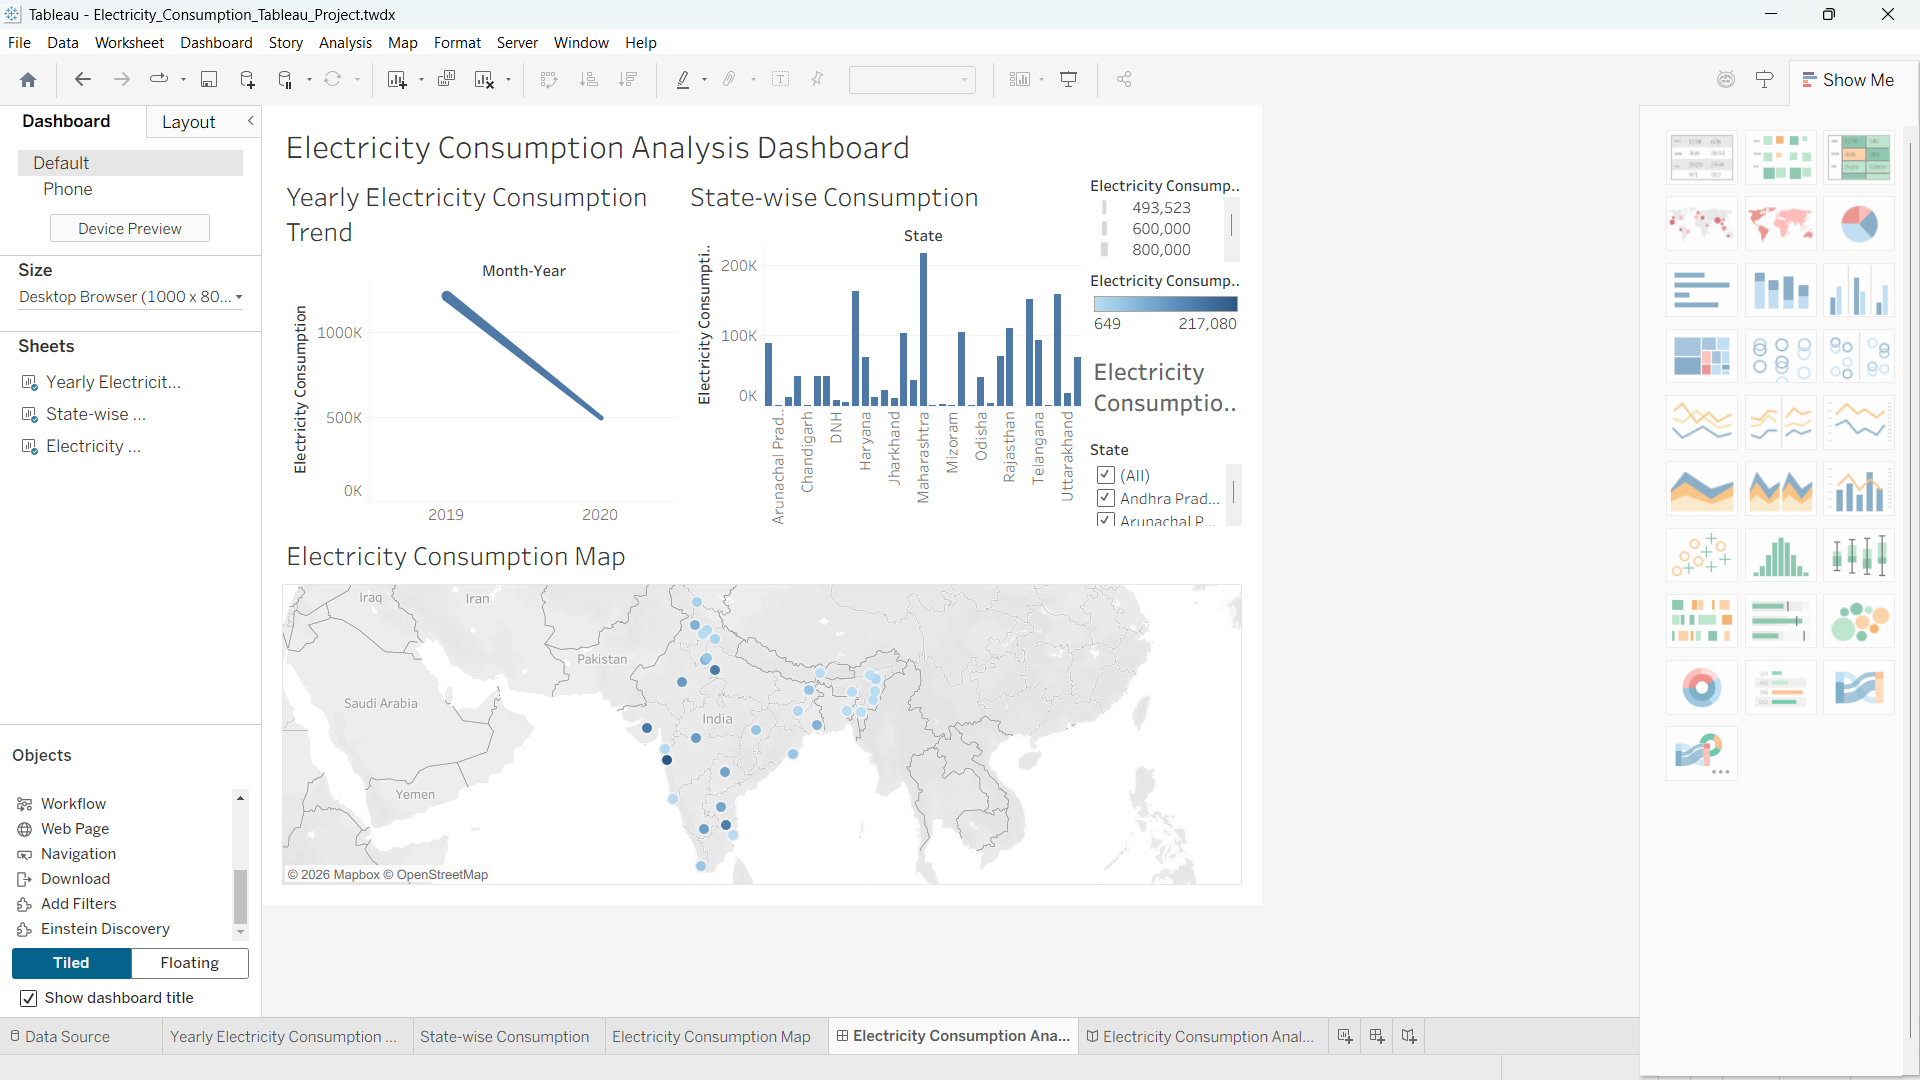

The dashboard page shown, as its layout file describes it:
{"tool":"tableau","page":{"name":"Electricity Consumption Analysis Dashboard","canvas":[1000,800],"ordinal":0},"visuals":[{"type":"worksheet","title":"Yearly Electricity Consumption Trend","mark":"Automatic","rows":["Usage"],"cols":["Calculation_0070001933938690"],"box":[8,8,412,392]},{"type":"worksheet","title":"State-wise Consumption","mark":"Automatic","rows":["Usage"],"cols":["States"],"box":[420,8,412,392]},{"type":"legend","title":"Yearly Electricity Consumption Trend","param":"[federated.0e61id208tkxmz1dho1m816khifq].[sum:Usage:qk]","box":[832,8,160,135]},{"type":"legend","title":"Electricity Consumption Map","param":"[federated.0e61id208tkxmz1dho1m816khifq].[sum:Usage:qk]","box":[832,143,160,73]},{"type":"text","box":[832,216,160,136]},{"type":"worksheet","title":"Electricity Consumption Map","mark":"Automatic","rows":["latitude"],"cols":["longitude"],"box":[8,400,984,392]}]}

Visuals, with their boxes on the page's 1000x800 design canvas (x1, y1, x2, y2). These are canvas units, not pixel positions in the 1920x1080 screenshot, which may show the page scaled, cropped or inside an application window:
"Yearly Electricity Consumption Trend" worksheet: select_region(8, 8, 420, 400)
"State-wise Consumption" worksheet: select_region(420, 8, 832, 400)
"Yearly Electricity Consumption Trend" legend: select_region(832, 8, 992, 143)
"Electricity Consumption Map" legend: select_region(832, 143, 992, 216)
text: select_region(832, 216, 992, 352)
"Electricity Consumption Map" worksheet: select_region(8, 400, 992, 792)
